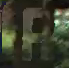Parking: (8, 2, 64, 67)
